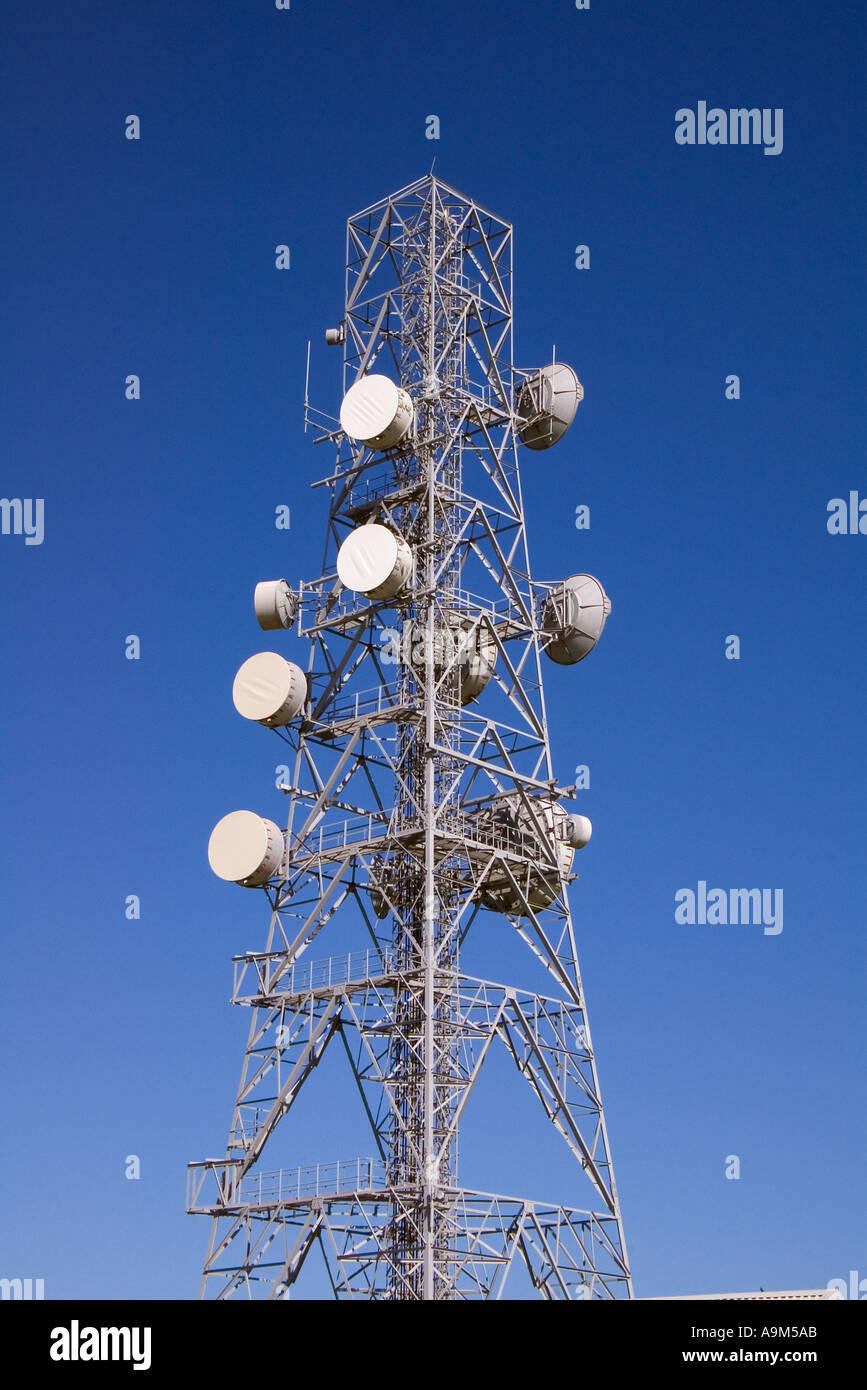ba: (462, 769, 587, 919), (513, 548, 626, 680), (319, 363, 433, 474), (316, 513, 416, 613), (191, 793, 287, 886), (212, 651, 321, 732), (212, 556, 305, 645), (511, 342, 581, 458)
